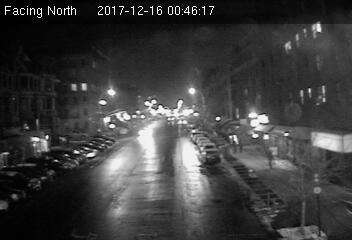car: (201, 148, 220, 163), (167, 116, 176, 123)
pedestrian: (264, 148, 277, 170)
